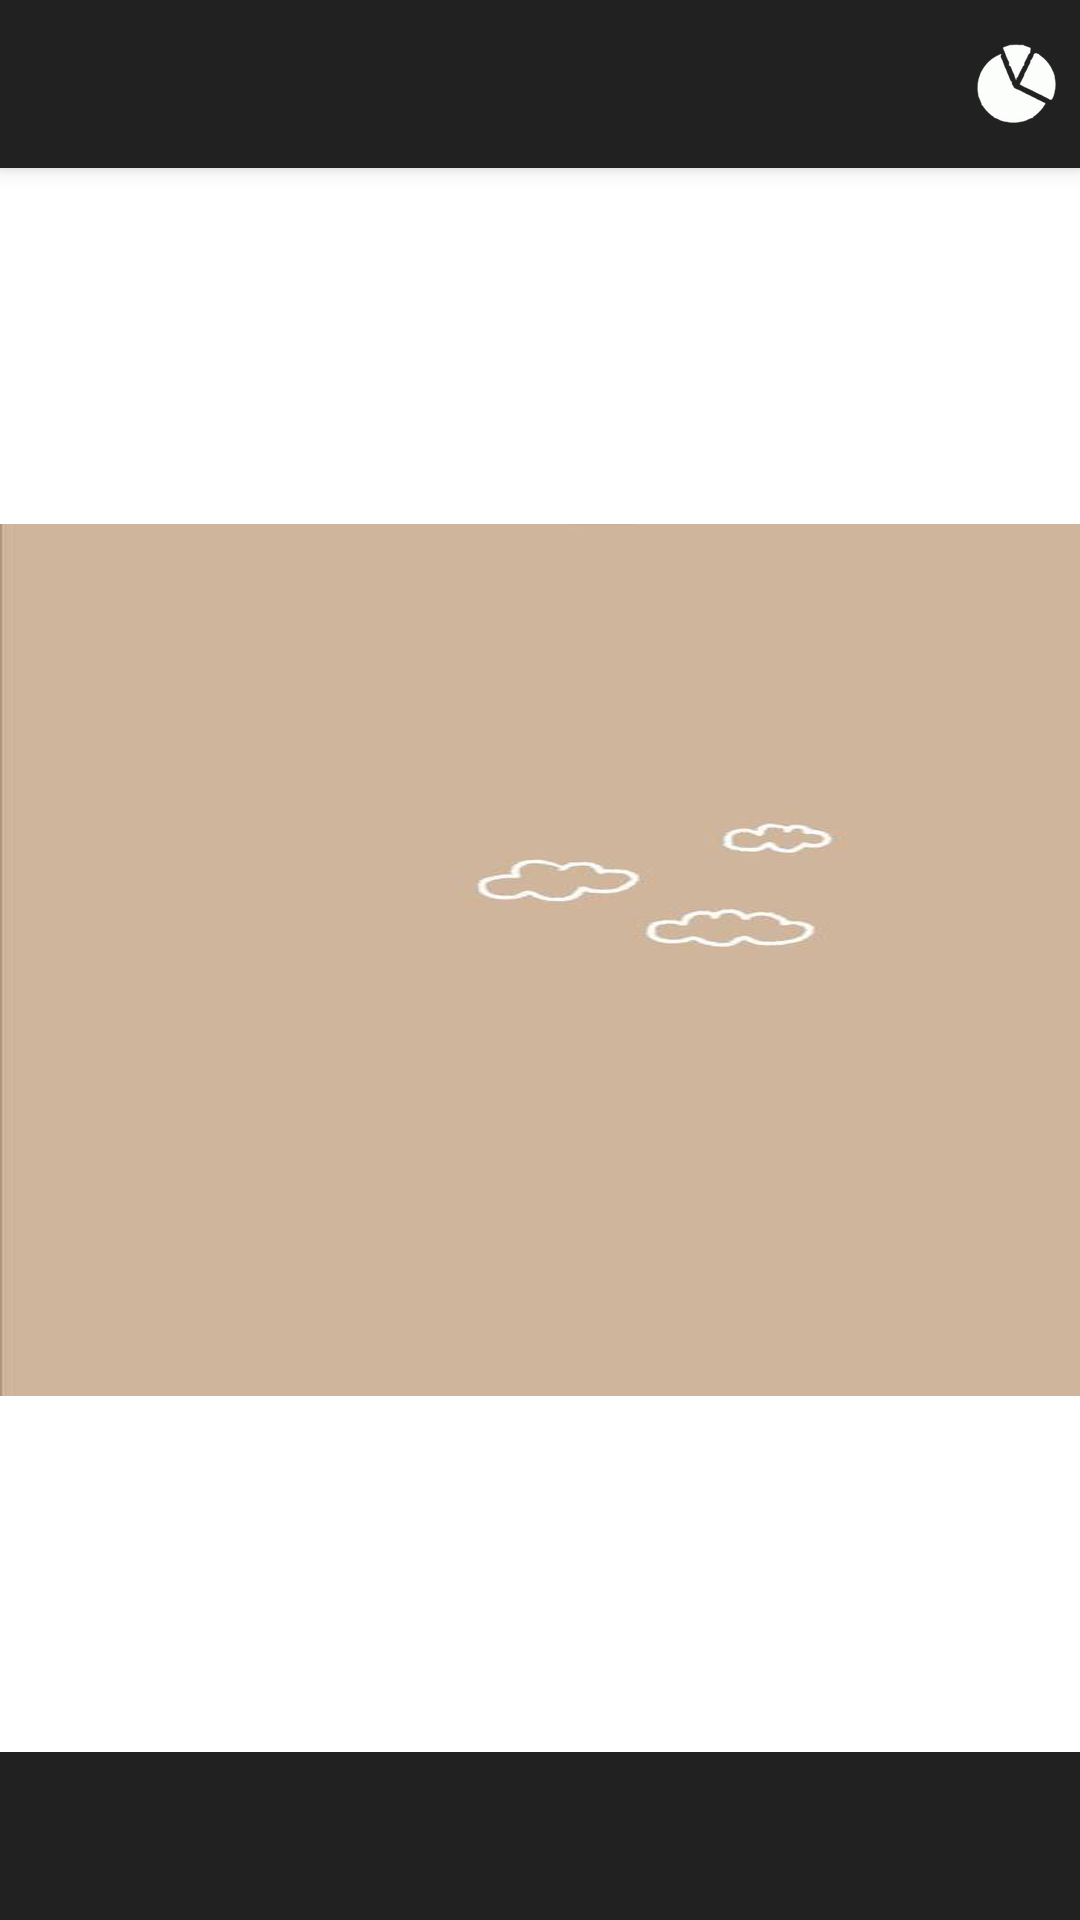

Screen size 1080px×1920px. Icon name, then its center in pixels as (x=x, y=y):
pie chart: (x=1016, y=83)
